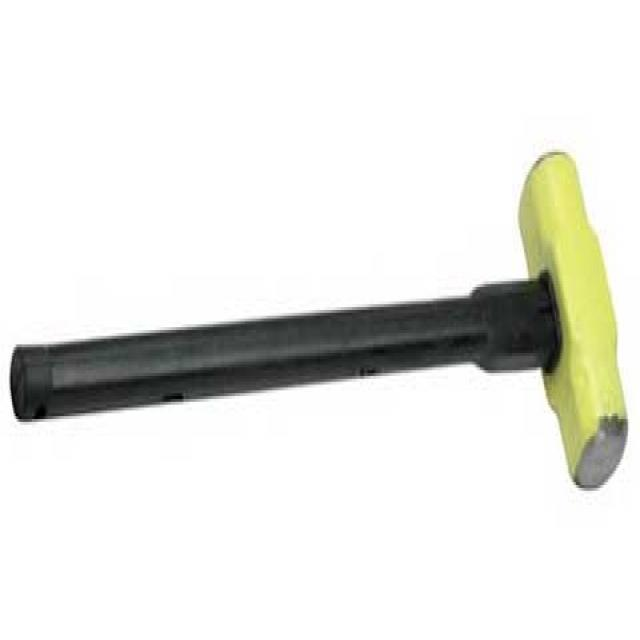hammer: (4, 131, 638, 515)
